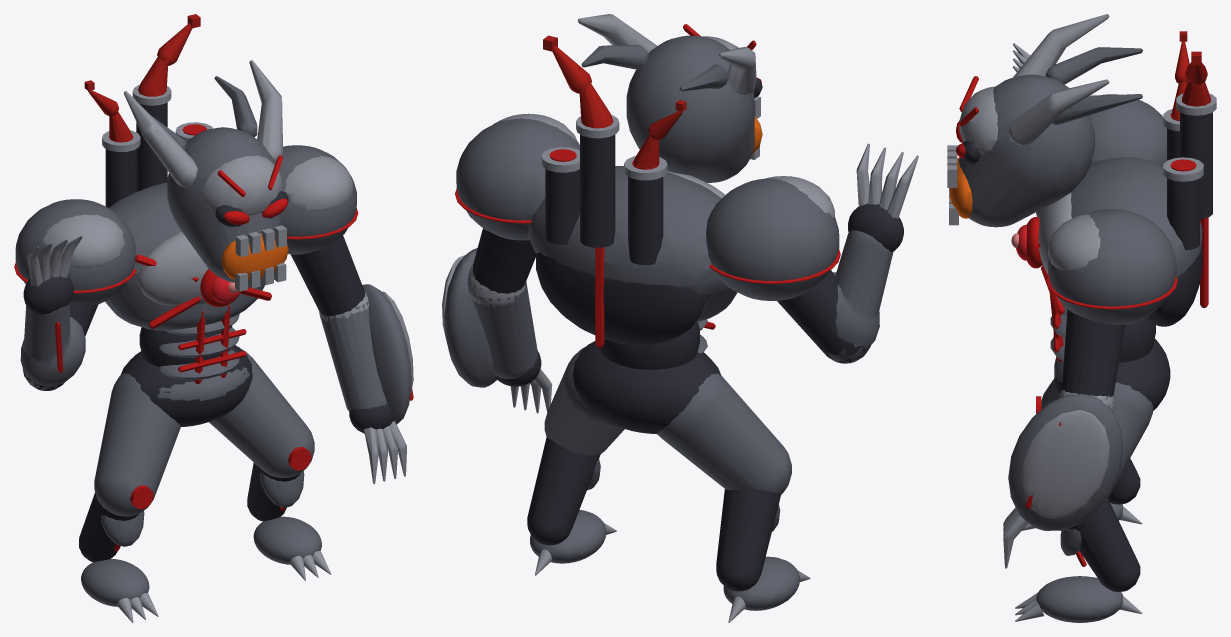
Rendered from ultraze.glb.
The picture shows the model from 3 angles, left to right: view 1: azimuth 30°, elevation 25°; view 2: azimuth 150°, elevation 25°; view 3: azimuth 270°, elevation 25°; orthographic projection. The views are drawn at different scales.
Visible parts, largest first — view 1: creature; view 2: creature; view 3: creature.
Boxes of the visible parts, x1,y1,x2,y2 form: creature: [14, 14, 413, 622]; creature: [442, 14, 918, 622]; creature: [947, 14, 1216, 622].
Size of the model in its own units: 0.7917 by 1 by 0.4485.
